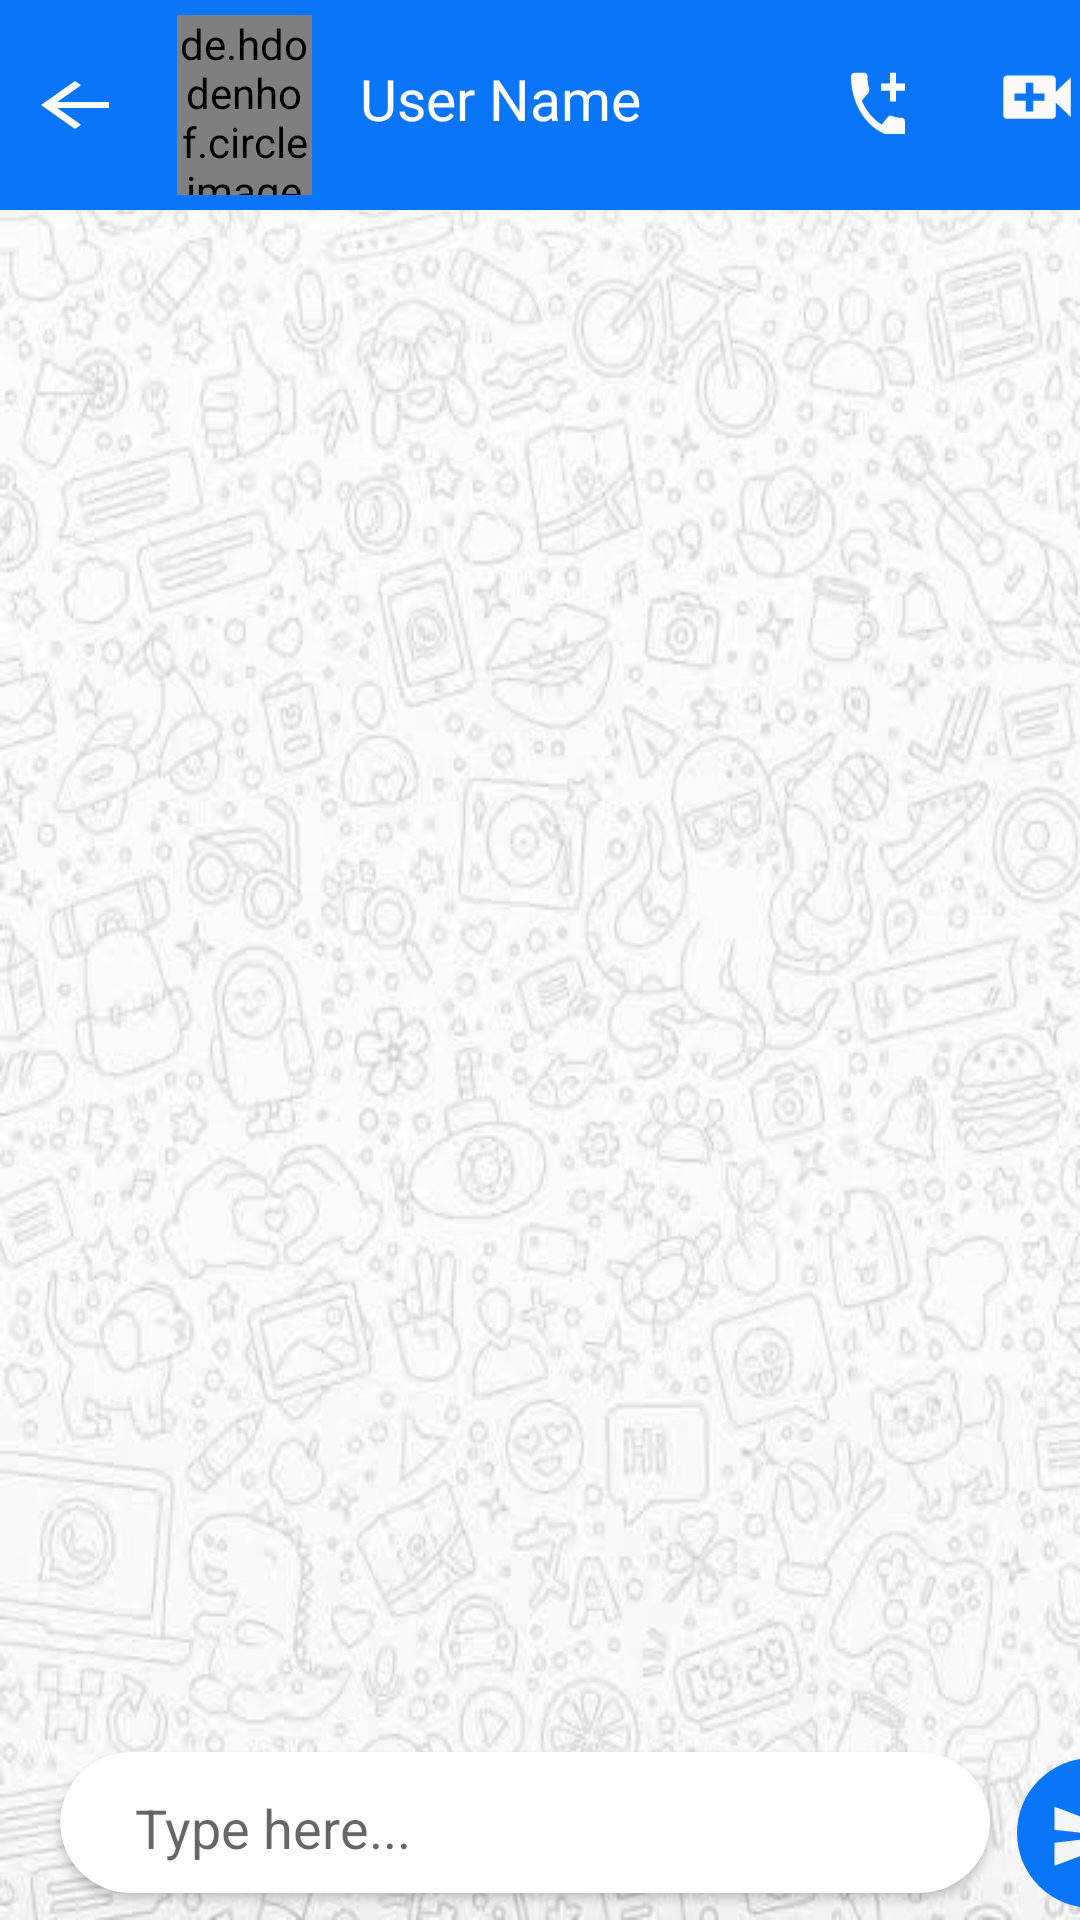

Icons on this 1080*1920 Android screen, each with the point to tap as (x,y):
add call: (878,103)
back: (75,105)
